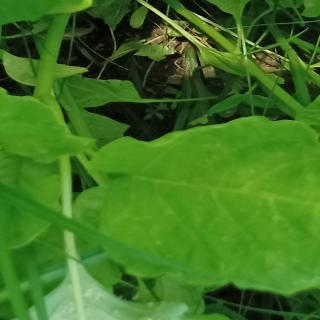karat_putih: (34, 274, 184, 320)
virus_keriting: (0, 74, 101, 224)
